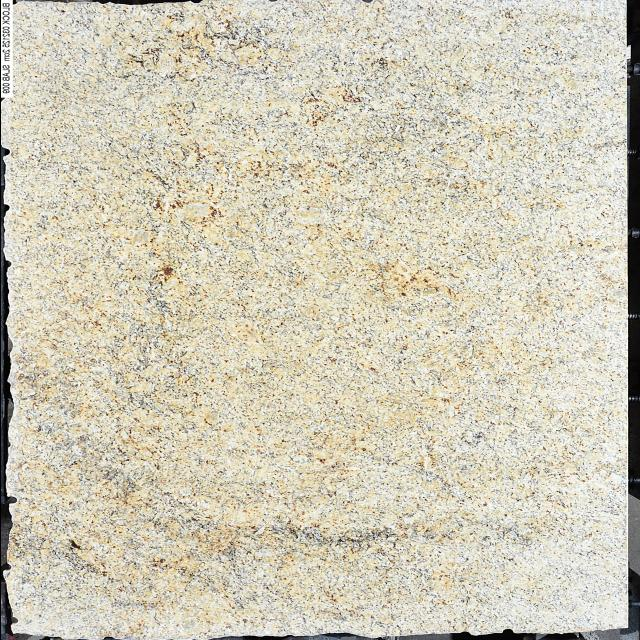chapa: (4, 0, 626, 639)
veio: (3, 492, 20, 508)
